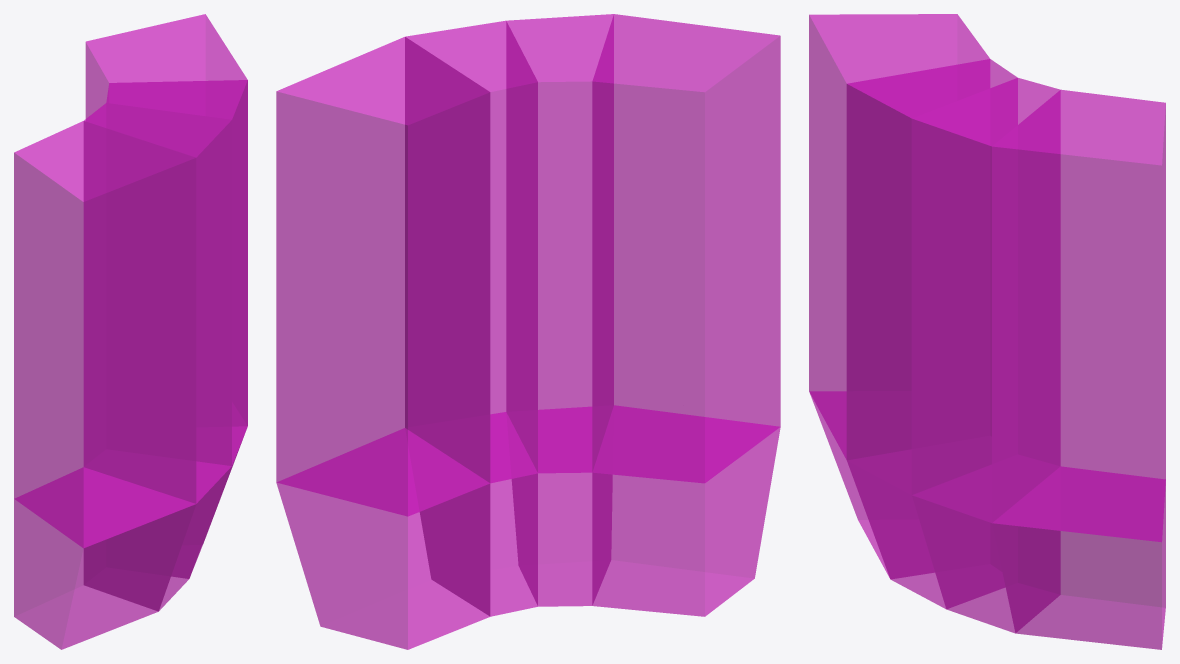
File: SM_Bld_Wall_L_Curve_04_Collision.fbx
3 renders of one model, left to right at view 1: azimuth 30°, elevation 25°; view 2: azimuth 150°, elevation 25°; view 3: azimuth 270°, elevation 25°, orthographic. The views are drawn at different scales.
Visible parts, largest first — view 1: SM_Bld_Wall_L_Curve_04_Collision; view 2: SM_Bld_Wall_L_Curve_04_Collision; view 3: SM_Bld_Wall_L_Curve_04_Collision.
Boxes of the visible parts, x1,y1,x2,y2 form: SM_Bld_Wall_L_Curve_04_Collision: (14,14,247,649); SM_Bld_Wall_L_Curve_04_Collision: (276,14,780,649); SM_Bld_Wall_L_Curve_04_Collision: (809,14,1165,649).
Size of the model in its own units: 389 by 604 by 387.
